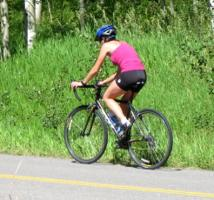person: (71, 25, 147, 150)
